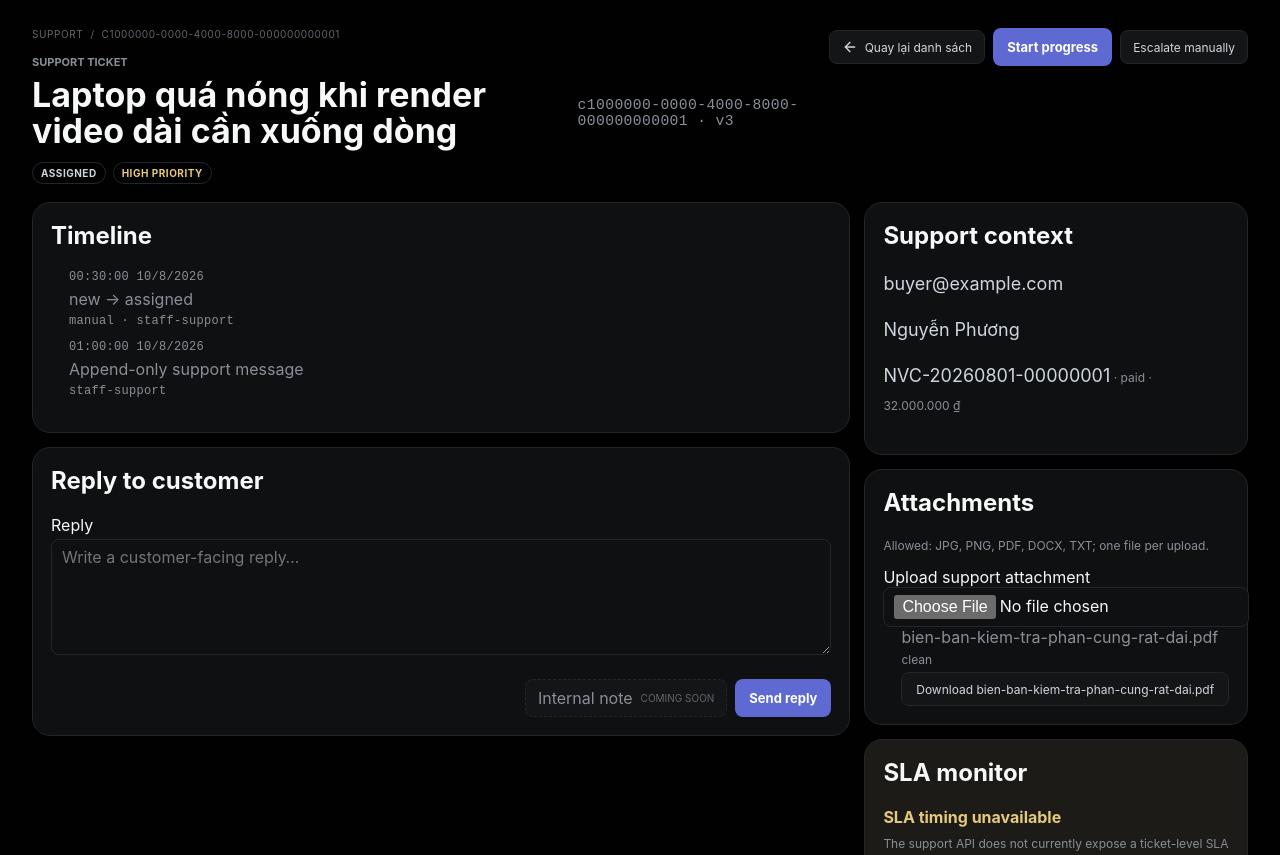
Test: TicketDetailPage › retains a failed reply and exposes an explicit retry
Type "Retry update" into the text box labelled "Reply" at (441, 597), box [51,539,831,655]
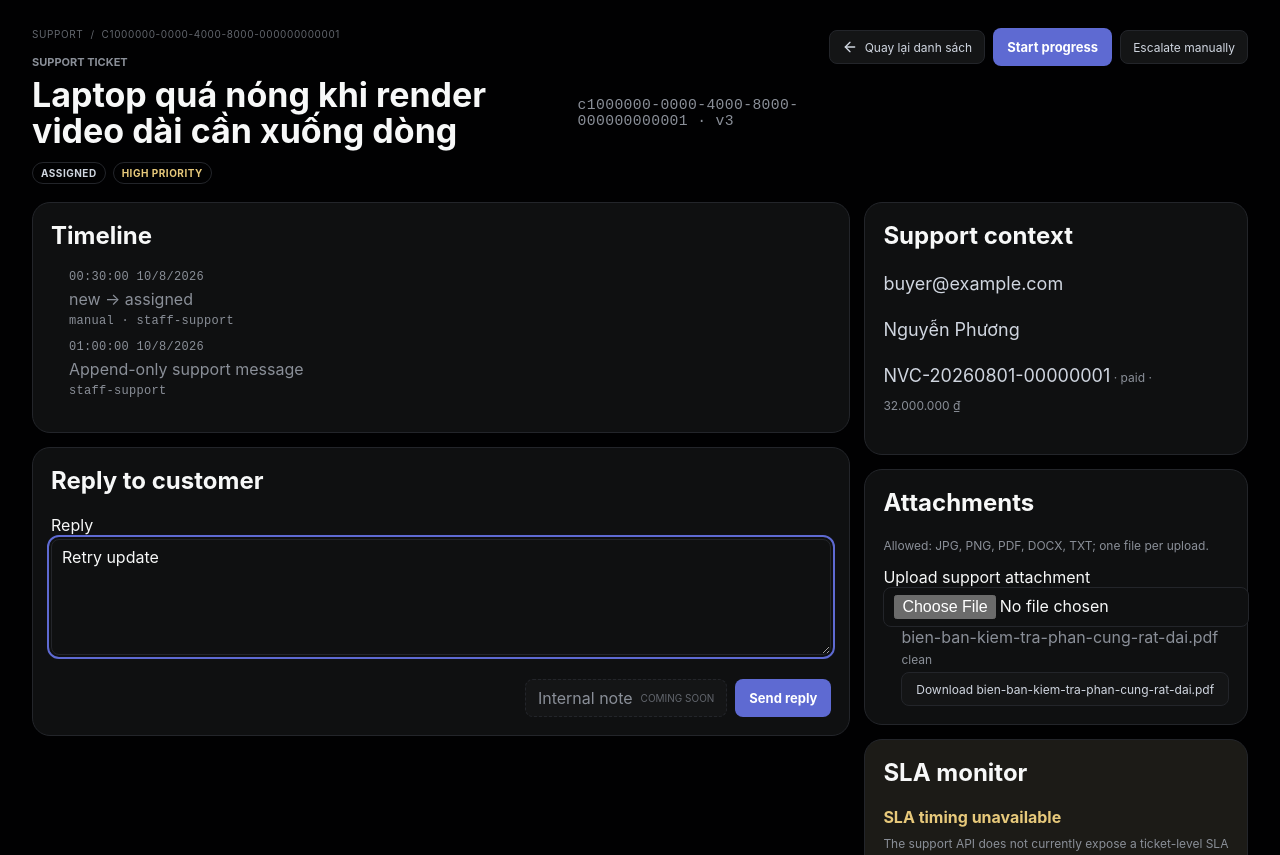
Click the button "Send reply" at (783, 698), box [735,679,831,717]
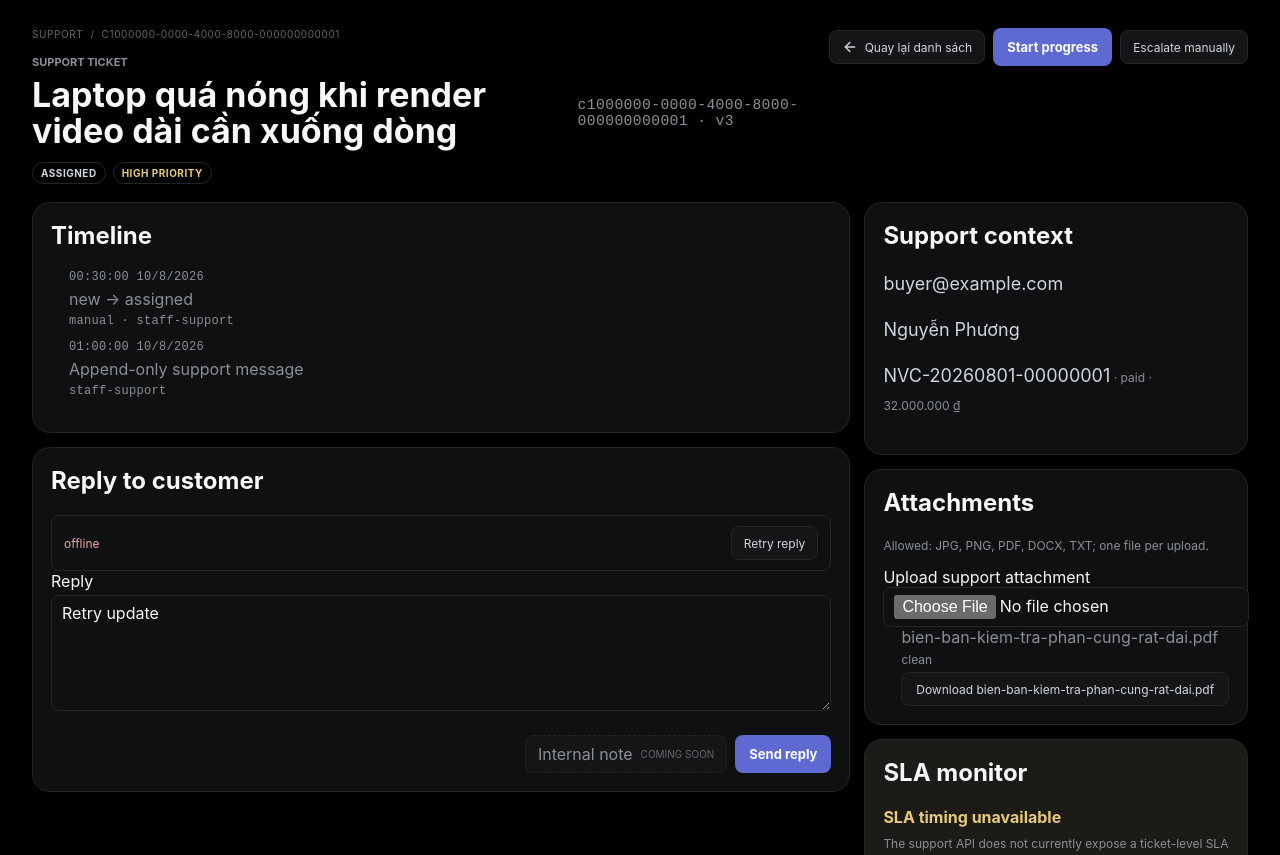
Expected: the message shows "offline", [64,536,100,551]
Click the button "Retry reply" at (775, 543), box [731,526,818,560]
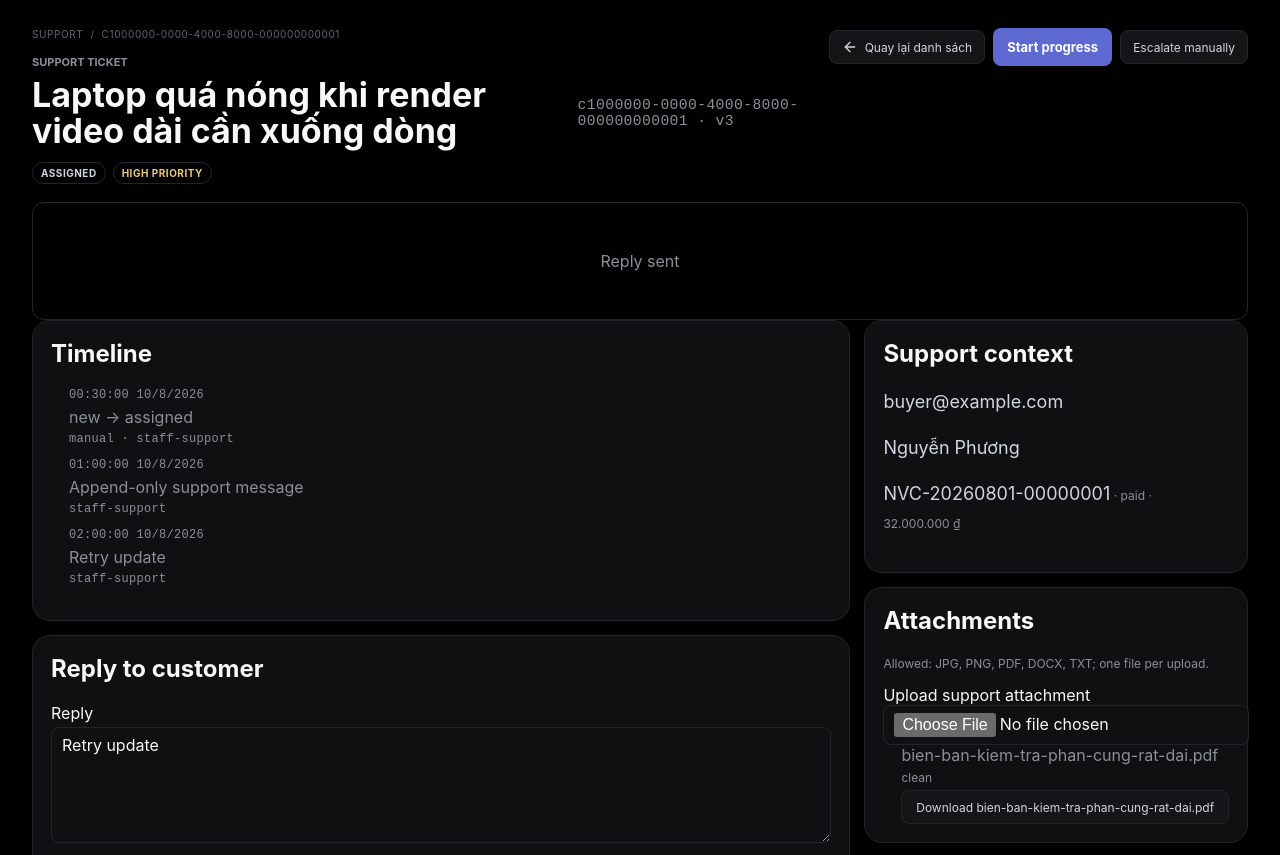
Expected: the text "Retry update" is shown, [69,547,166,567]
